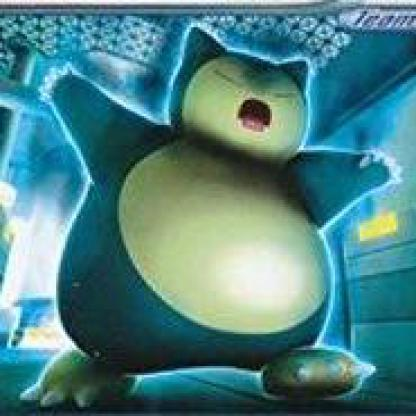Snorlax: (20, 26, 400, 413)
